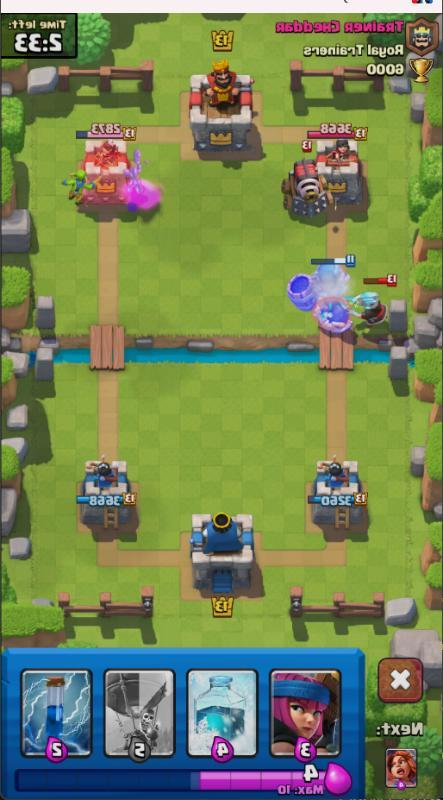enemy_ice_wizard: (350, 273, 403, 330)
enemy_sparky: (277, 156, 335, 220)
player_giant_skeleton: (284, 256, 354, 336)
player_goblins: (61, 163, 94, 207)
